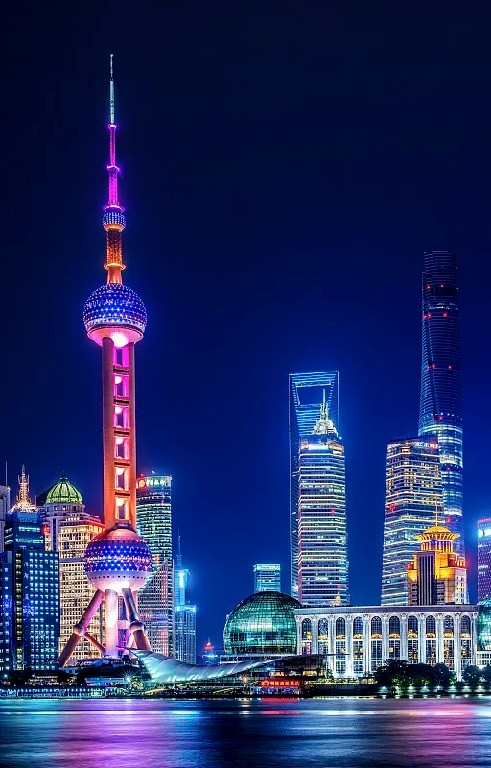Oriental: (61, 54, 154, 663)
